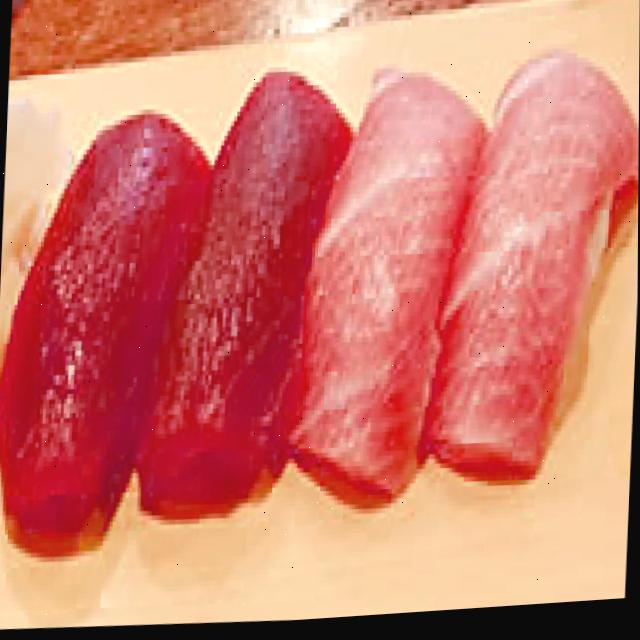寿司卷物: (0, 2, 640, 622)
